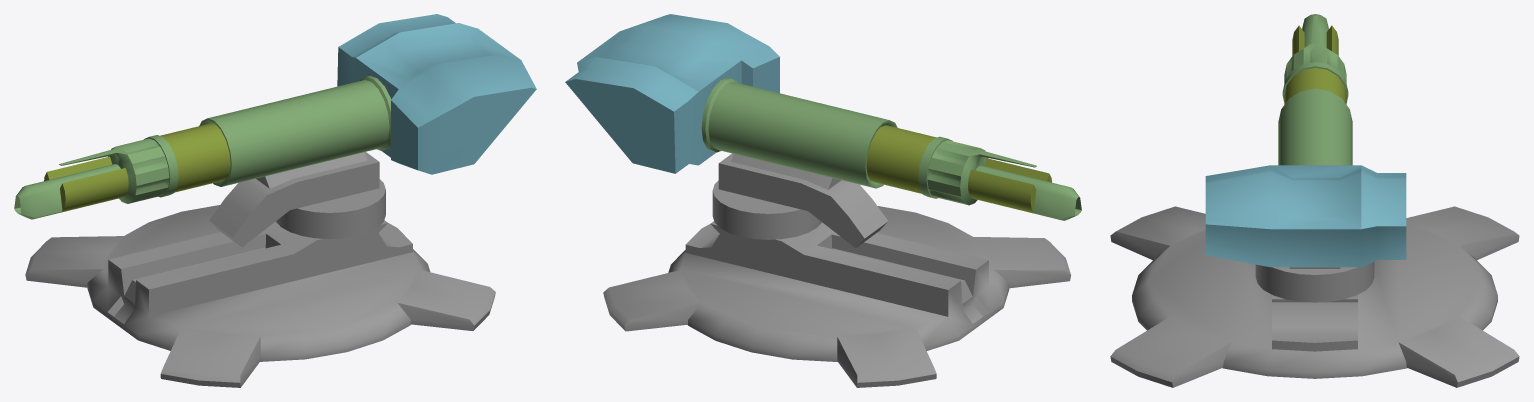
File: Scrapper Turret.FBX
3 views of the same model, side by side, from view 1: azimuth 30°, elevation 25°; view 2: azimuth 150°, elevation 25°; view 3: azimuth 270°, elevation 25° (orthographic). The views are drawn at different scales.
Visible parts, largest first — view 1: Cylinder002, Cylinder001; view 2: Cylinder002, Cylinder001; view 3: Cylinder001, Cylinder002.
Part boxes in pixels (x1,y1,x2,y2): Cylinder002: (14,14,536,247); Cylinder001: (25,205,495,387); Cylinder002: (565,14,1081,248); Cylinder001: (603,206,1071,387); Cylinder001: (1110,206,1519,387); Cylinder002: (1205,14,1406,302).
Size of the model in its own units: 93.33 by 37.22 by 64.89.
